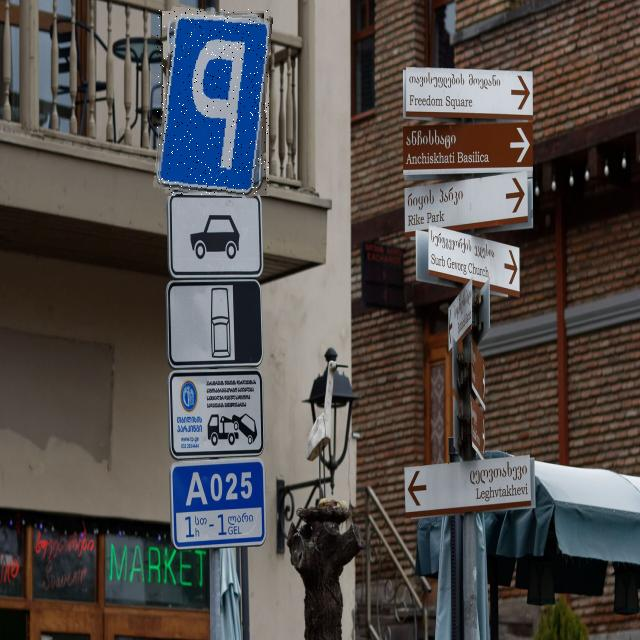parking: (157, 9, 269, 196)
